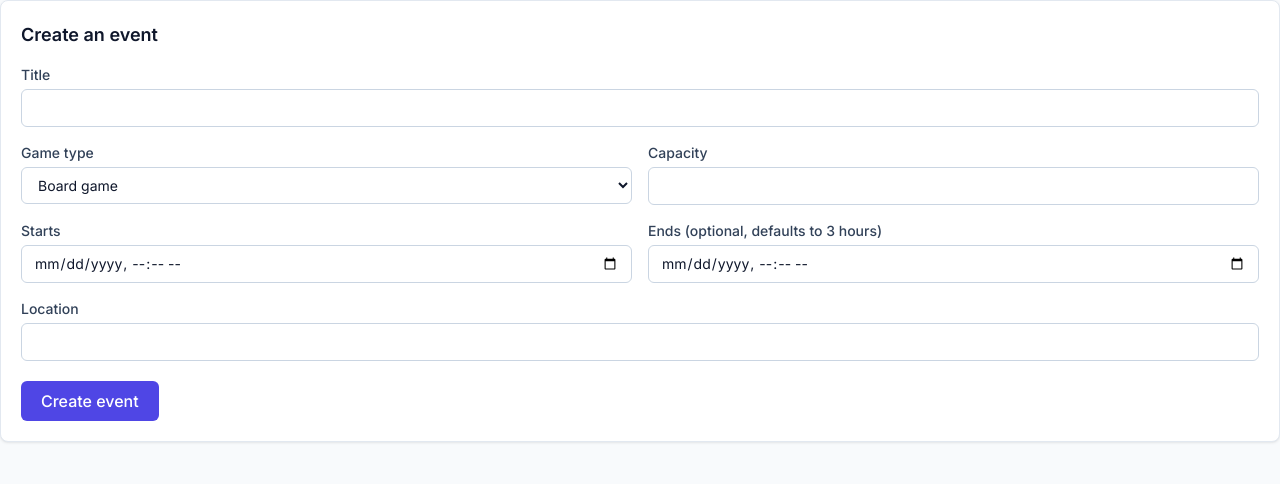
Test: CreateEventForm › renders per-field server errors from a 400 envelope
This screenshot has width=1280, height=484.
In the field labelled "Title": (640, 108) [21,89,1259,127], type "Sealed League Night"
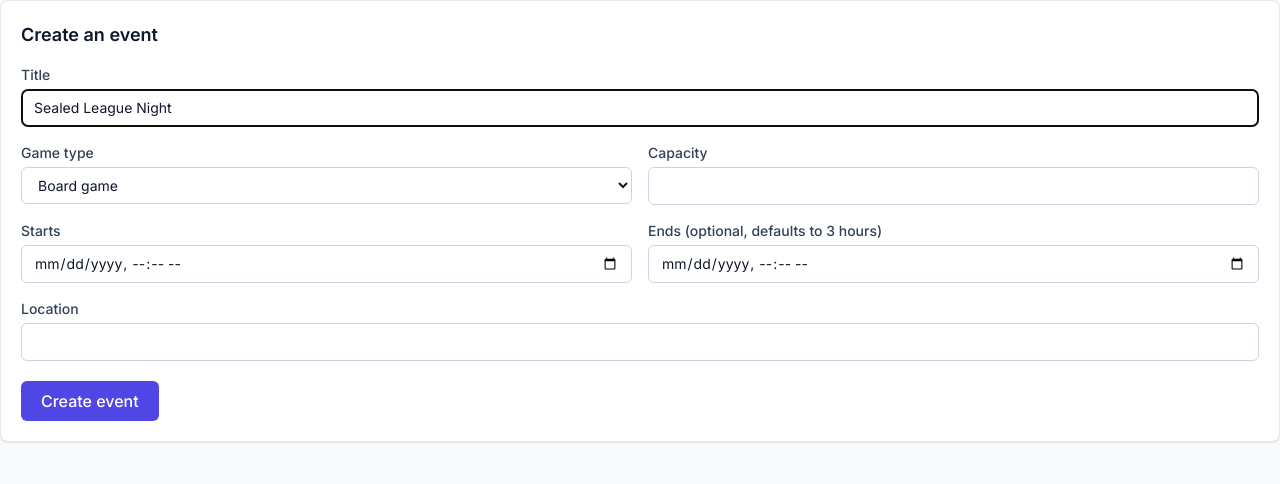
Select "TCG" in the dropdown labelled "Game type": (326, 186) [21,167,632,204]
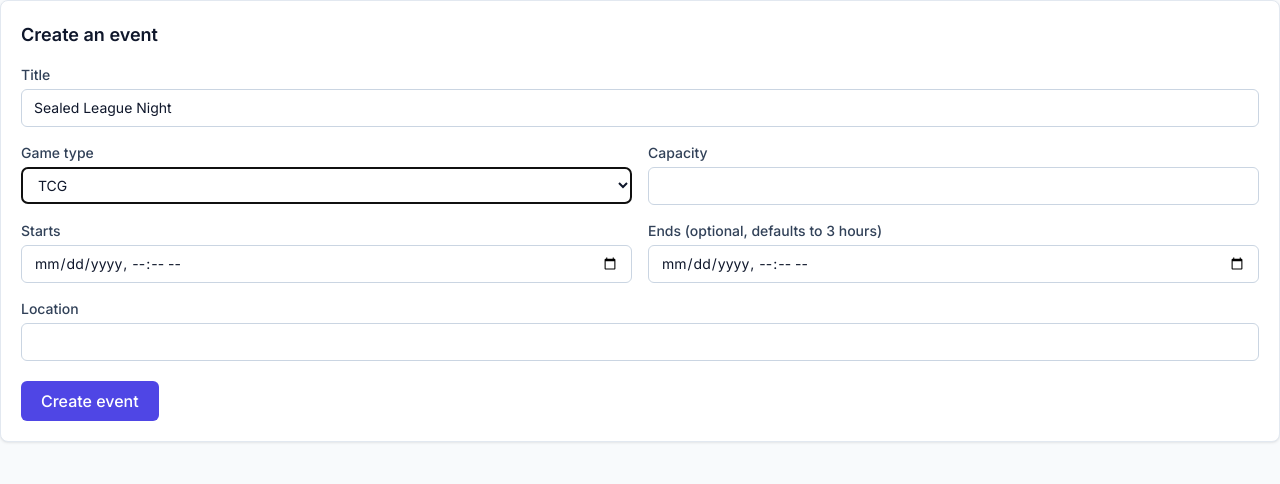
In the number field labelled "Capacity": (954, 186) [648,167,1259,205], type "8"
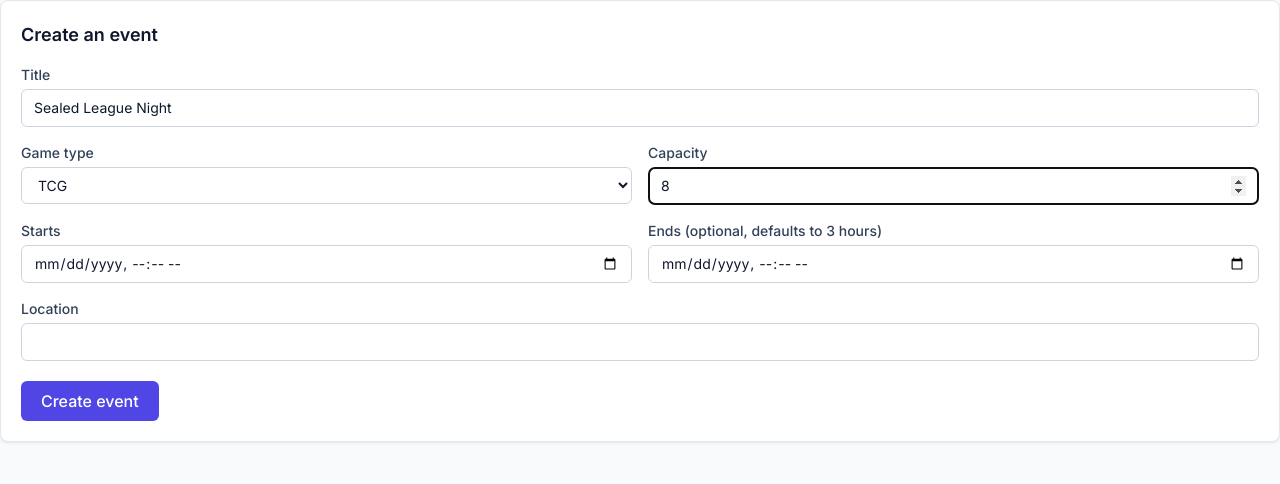
In the field labelled "Starts": (326, 264) [21,245,632,283], type "2027-06-01T19:00"
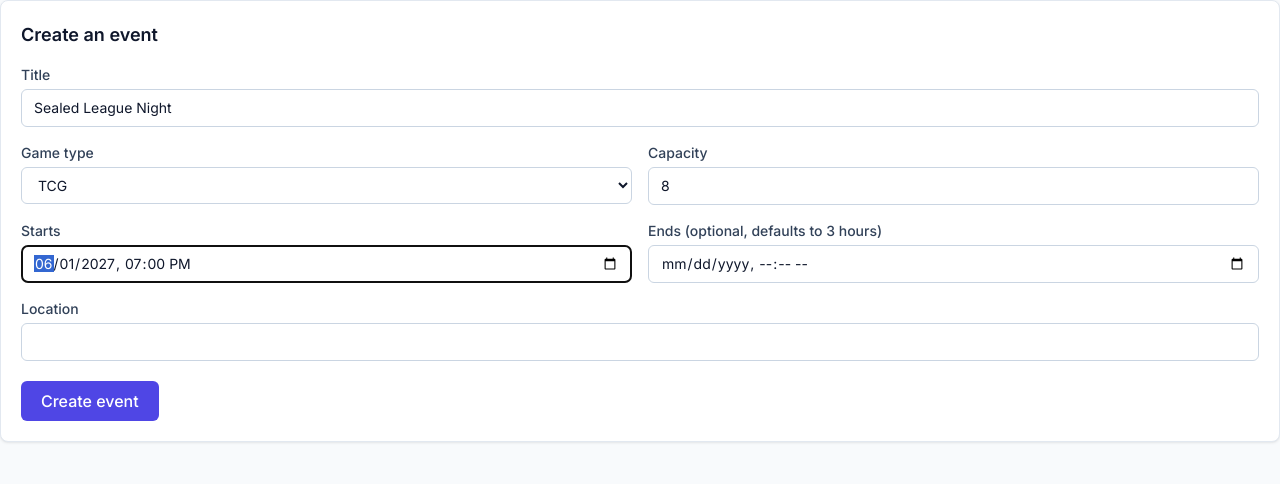
In the field labelled "Location": (640, 342) [21,323,1259,361], type "Card Kingdom, Ballard"
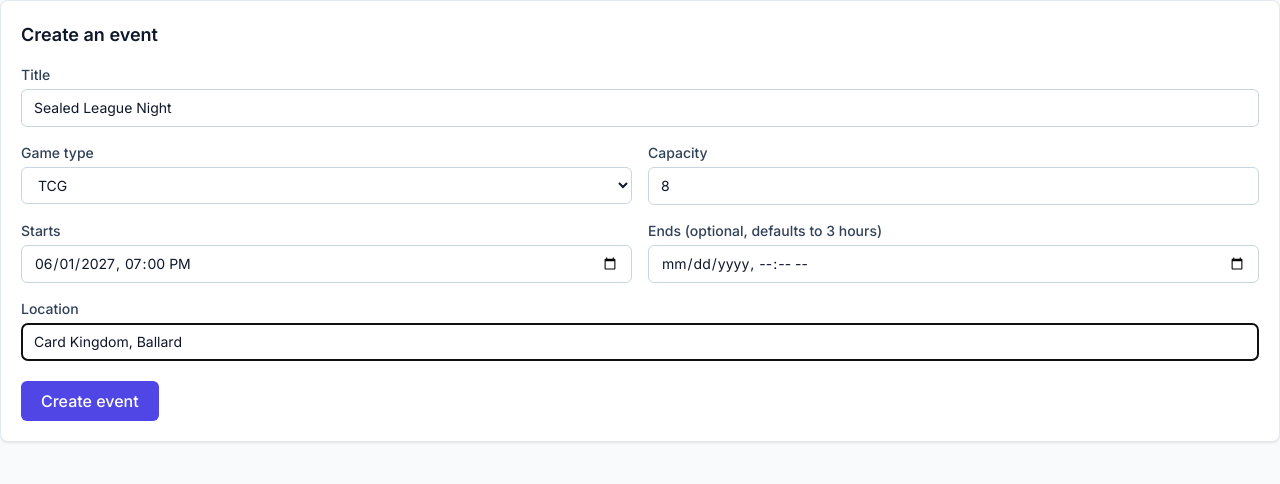
Click the button "Create event": (90, 401) [21,381,159,421]
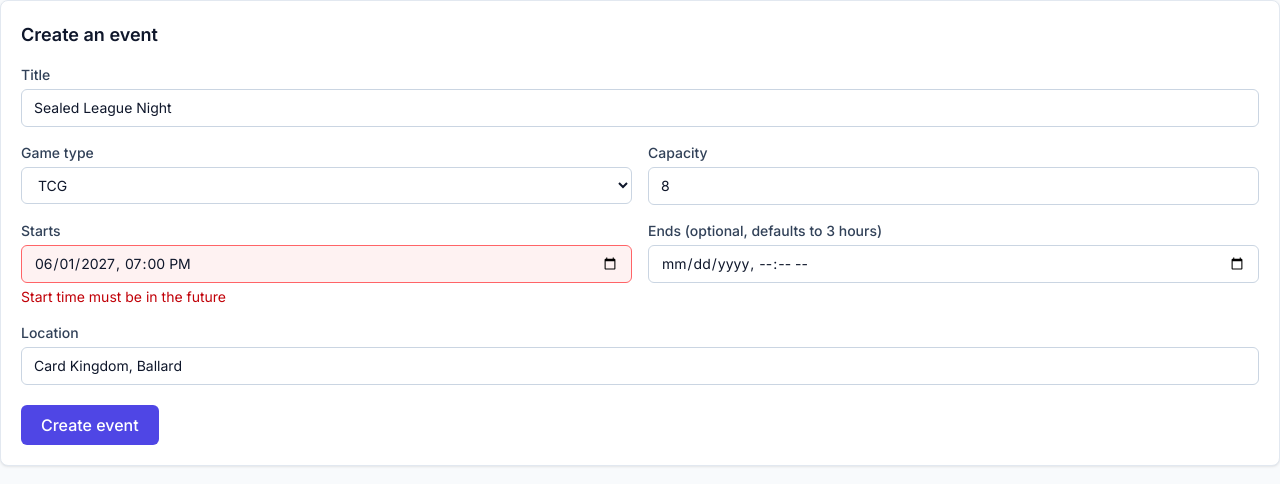
expect the text with test id "error-starts_at" reads "Start time must be in the future": met, box [21,288,226,305]
